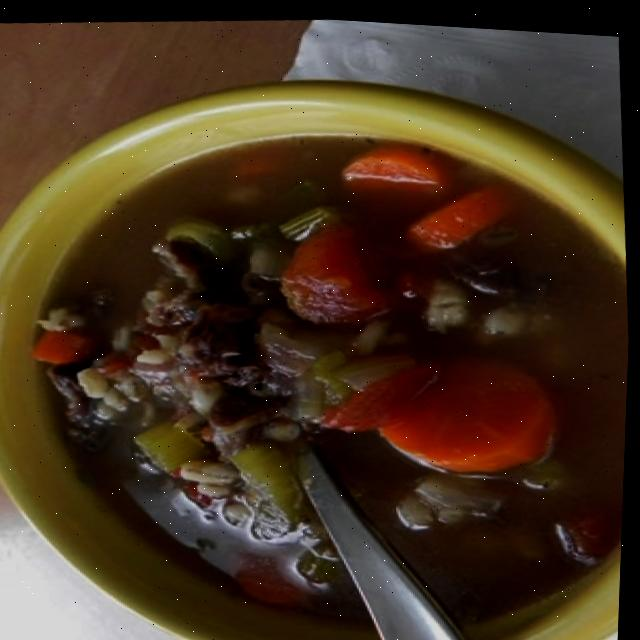汤锅炖物: (0, 84, 638, 640)
